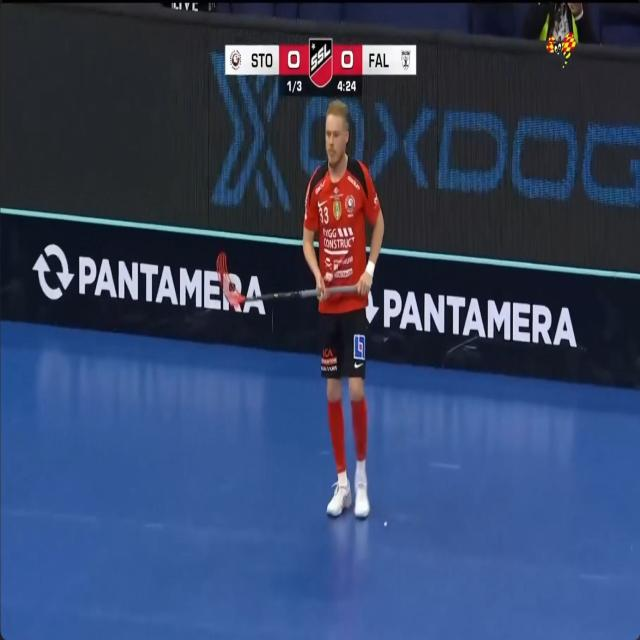player: (303, 100, 384, 517)
stick: (217, 252, 320, 310), (245, 289, 319, 302), (327, 285, 357, 295)
